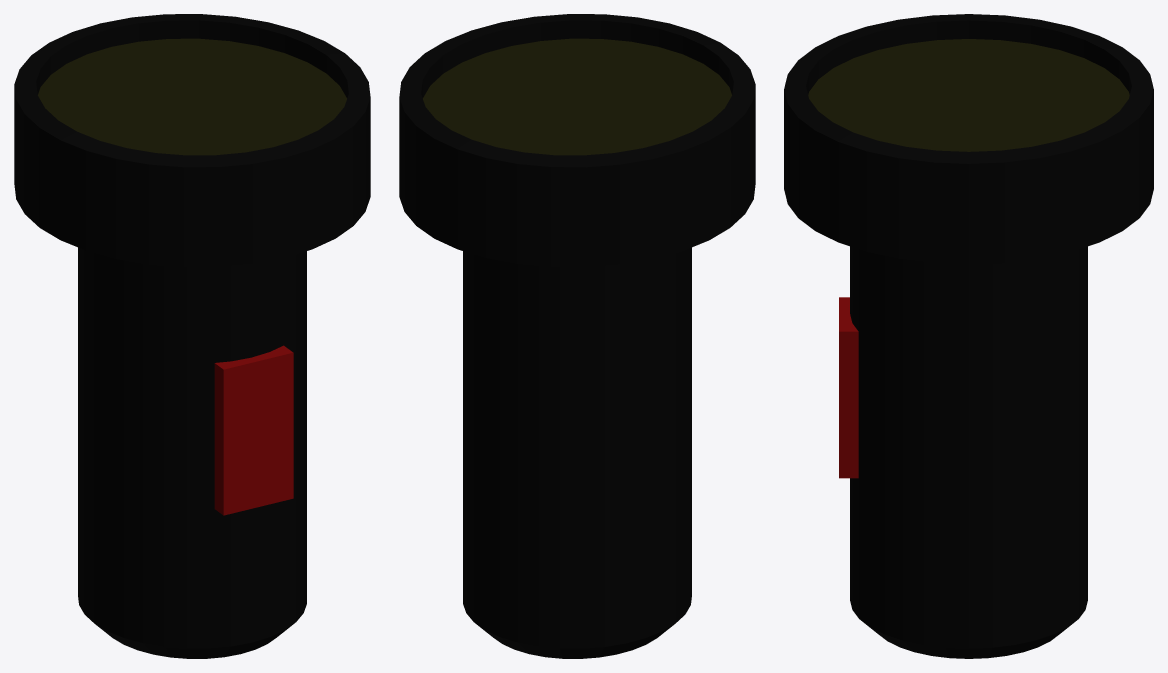
Rendered from flashlight.fbx.
3 renders of one model, left to right at view 1: azimuth 30°, elevation 25°; view 2: azimuth 150°, elevation 25°; view 3: azimuth 270°, elevation 25°, orthographic.
Visible parts, largest first — view 1: Куб; view 2: Куб; view 3: Куб.
Part boxes in pixels (left/top/right/bottom): Куб: left=14, top=14, right=370, bottom=658; Куб: left=399, top=14, right=755, bottom=658; Куб: left=784, top=14, right=1153, bottom=658.
Bounding box in the file's own units: 311 × 516 × 324.
